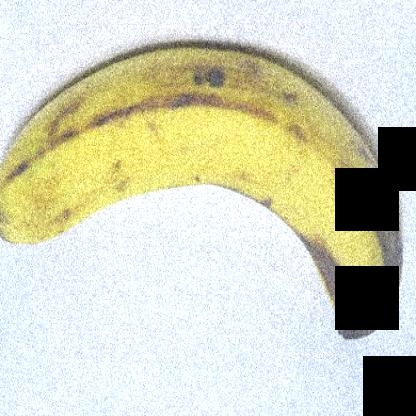ripe: (0, 4, 415, 364)
